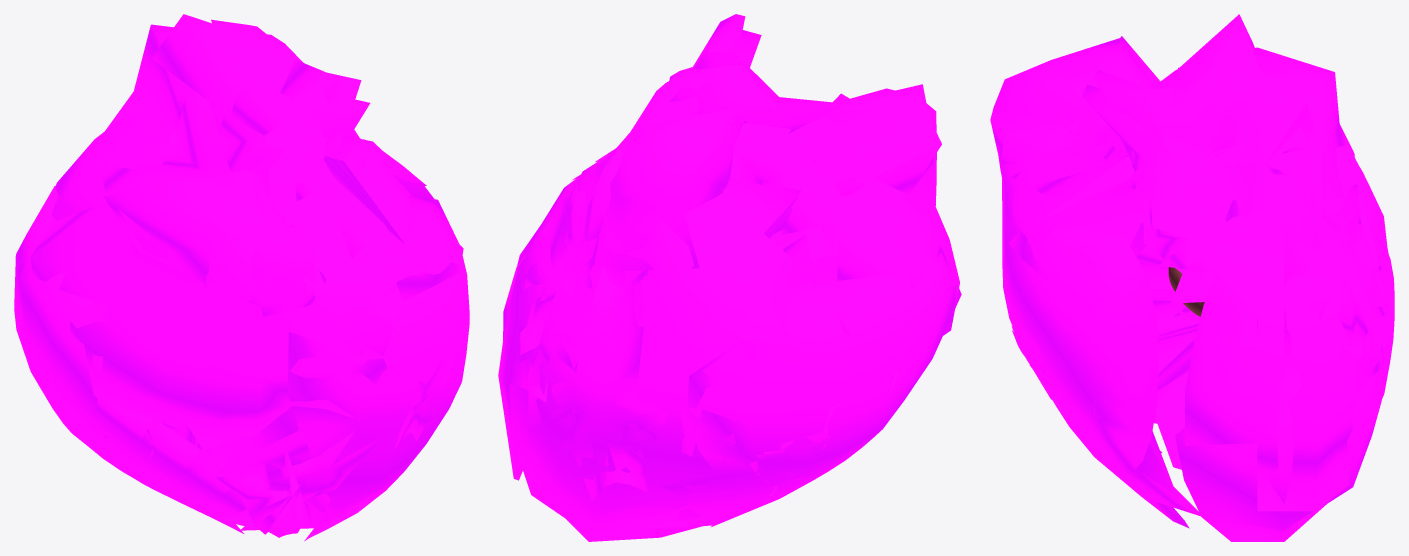
Rendered from heart-organ-progressing-3.glb.
3 renders of one model, left to right at view 1: azimuth 30°, elevation 25°; view 2: azimuth 150°, elevation 25°; view 3: azimuth 270°, elevation 25°, orthographic. The views are drawn at different scales.
Visible parts, largest first — view 1: Amyloid_1, Amyloid_0, Amyloid_4, Amyloid_3, Amyloid_2, Amyloid_5, Amyloid_6; view 2: Amyloid_2, Amyloid_3, Amyloid_1, Amyloid_6, Amyloid_4, Amyloid_0; view 3: Amyloid_6, Amyloid_0, Amyloid_4, Amyloid_2, Amyloid_1, Amyloid_3.
Part boxes in pixels (x1,y1,x2,y2): Amyloid_1: [31, 59, 447, 450]; Amyloid_0: [216, 195, 469, 541]; Amyloid_4: [151, 14, 463, 301]; Amyloid_3: [14, 186, 246, 533]; Amyloid_2: [18, 108, 299, 465]; Amyloid_5: [216, 431, 383, 537]; Amyloid_6: [105, 24, 433, 198]; Amyloid_2: [503, 157, 850, 541]; Amyloid_3: [617, 244, 961, 529]; Amyloid_1: [694, 46, 959, 335]; Amyloid_6: [498, 85, 757, 480]; Amyloid_4: [572, 14, 846, 179]; Amyloid_0: [770, 208, 841, 284]; Amyloid_6: [1143, 47, 1390, 511]; Amyloid_0: [1002, 196, 1204, 528]; Amyloid_4: [1008, 14, 1309, 302]; Amyloid_2: [1175, 145, 1394, 541]; Amyloid_1: [990, 36, 1186, 296]; Amyloid_3: [1137, 245, 1200, 469].
Size of the model in its own units: 9.34 by 11.49 by 8.95.
